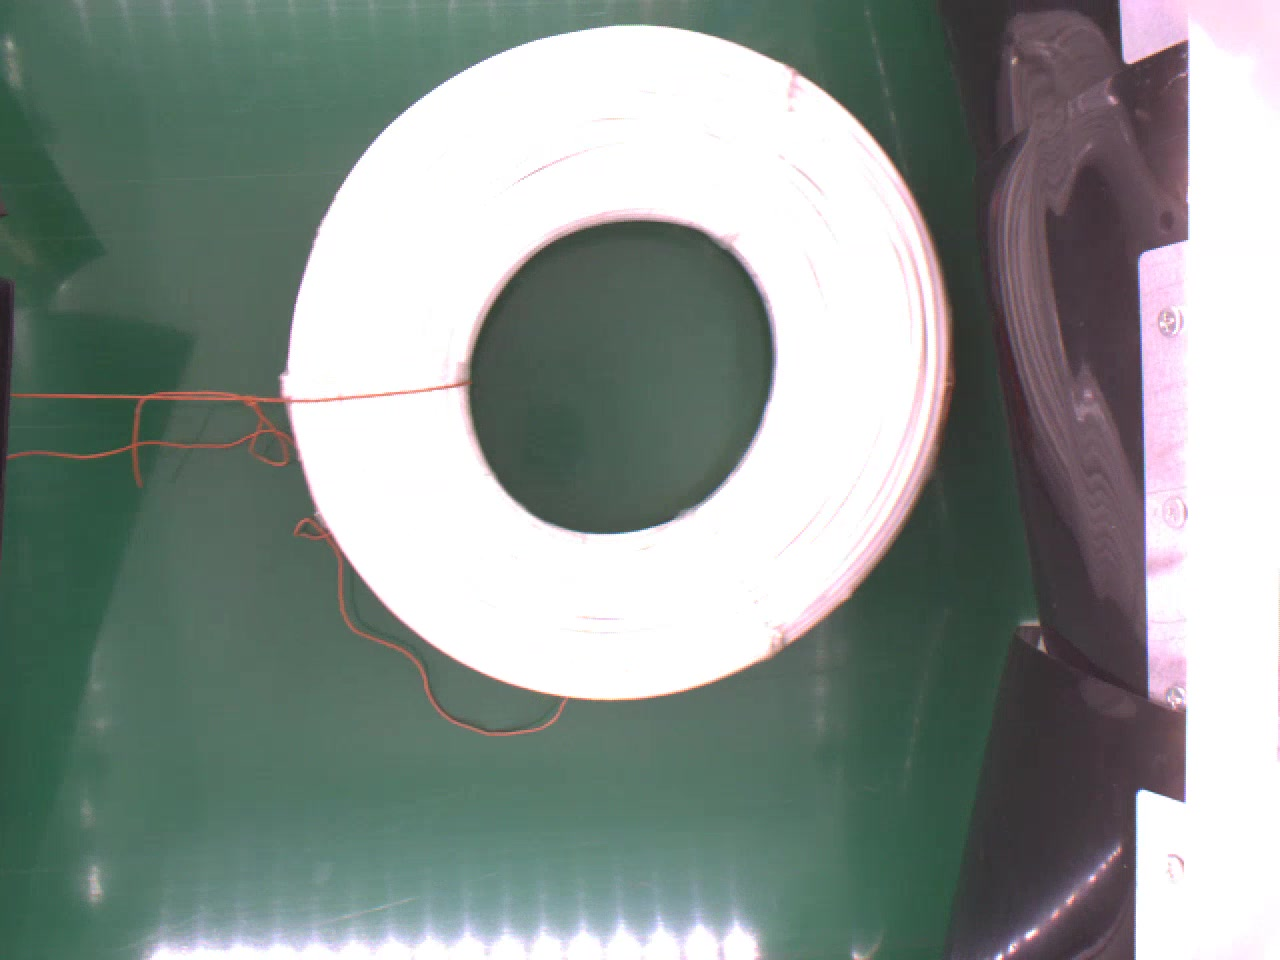white: (283, 23, 957, 701)
